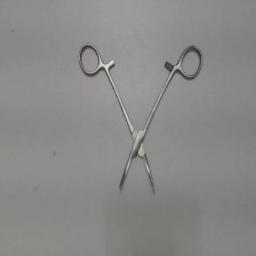Crile Artery Forceps: (72, 37, 206, 197)
